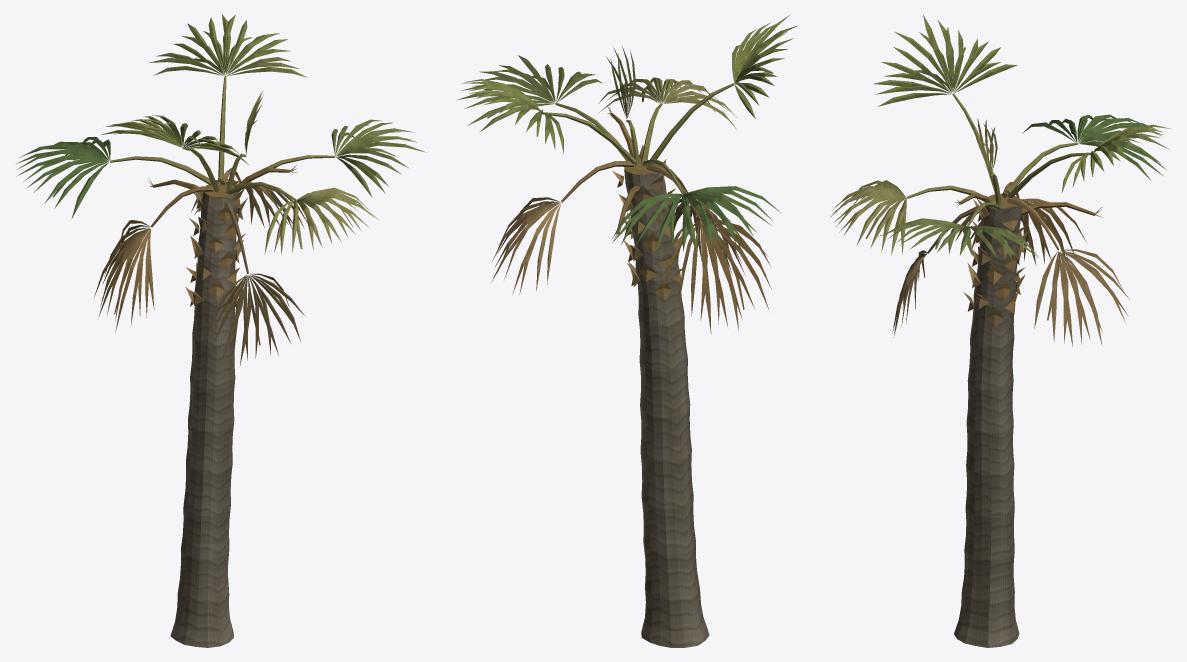
The model's file is palm_fl_struggling.glb.
The picture shows the model from 3 angles, left to right: view 1: azimuth 30°, elevation 25°; view 2: azimuth 150°, elevation 25°; view 3: azimuth 270°, elevation 25°; orthographic projection. The views are drawn at different scales.
Visible parts, largest first — view 1: Florida_Fan_Palm_Struggling; view 2: Florida_Fan_Palm_Struggling; view 3: Florida_Fan_Palm_Struggling.
Part boxes in pixels (x1=…): Florida_Fan_Palm_Struggling: x1=16, y1=14, x2=426, y2=647; Florida_Fan_Palm_Struggling: x1=457, y1=15, x2=798, y2=647; Florida_Fan_Palm_Struggling: x1=830, y1=14, x2=1170, y2=647.
Size of the model in its own units: 3.41 by 5.68 by 3.07.
Materials: 1 (1 with a texture image).
